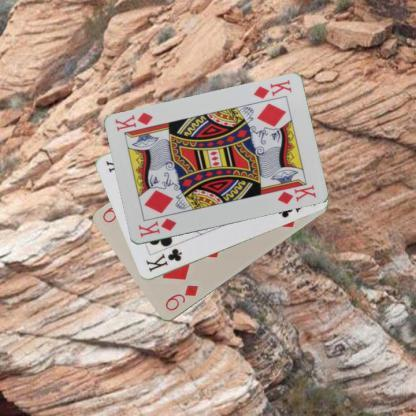9d: (162, 282, 200, 312)
Kc: (142, 246, 184, 273)
Kd: (136, 216, 178, 239), (251, 78, 293, 100)
